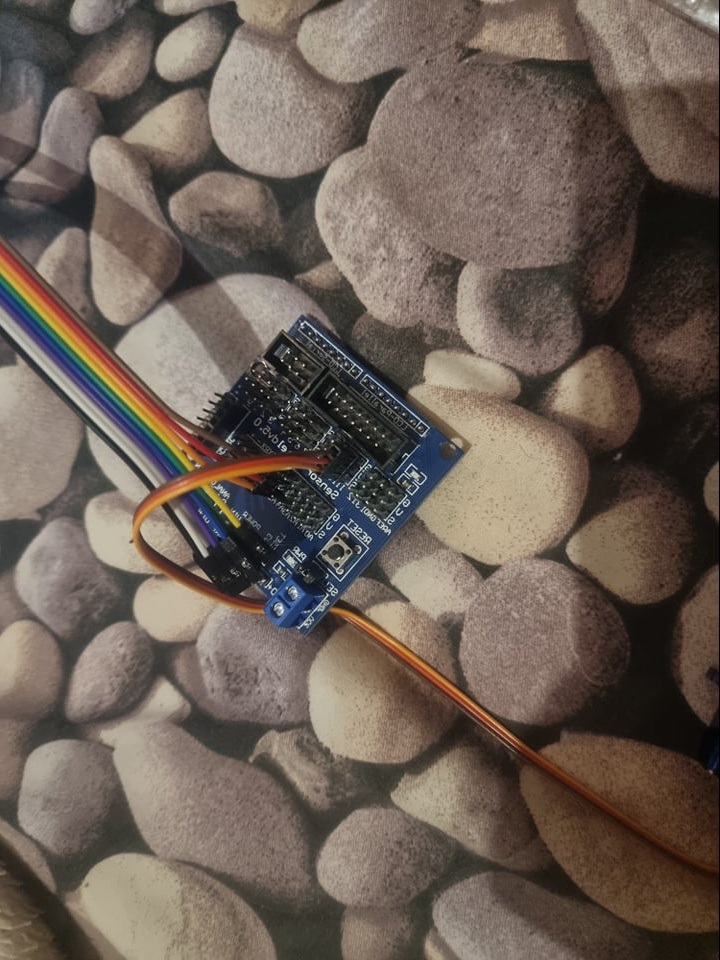5V EXPANSION: (177, 311, 465, 636)
